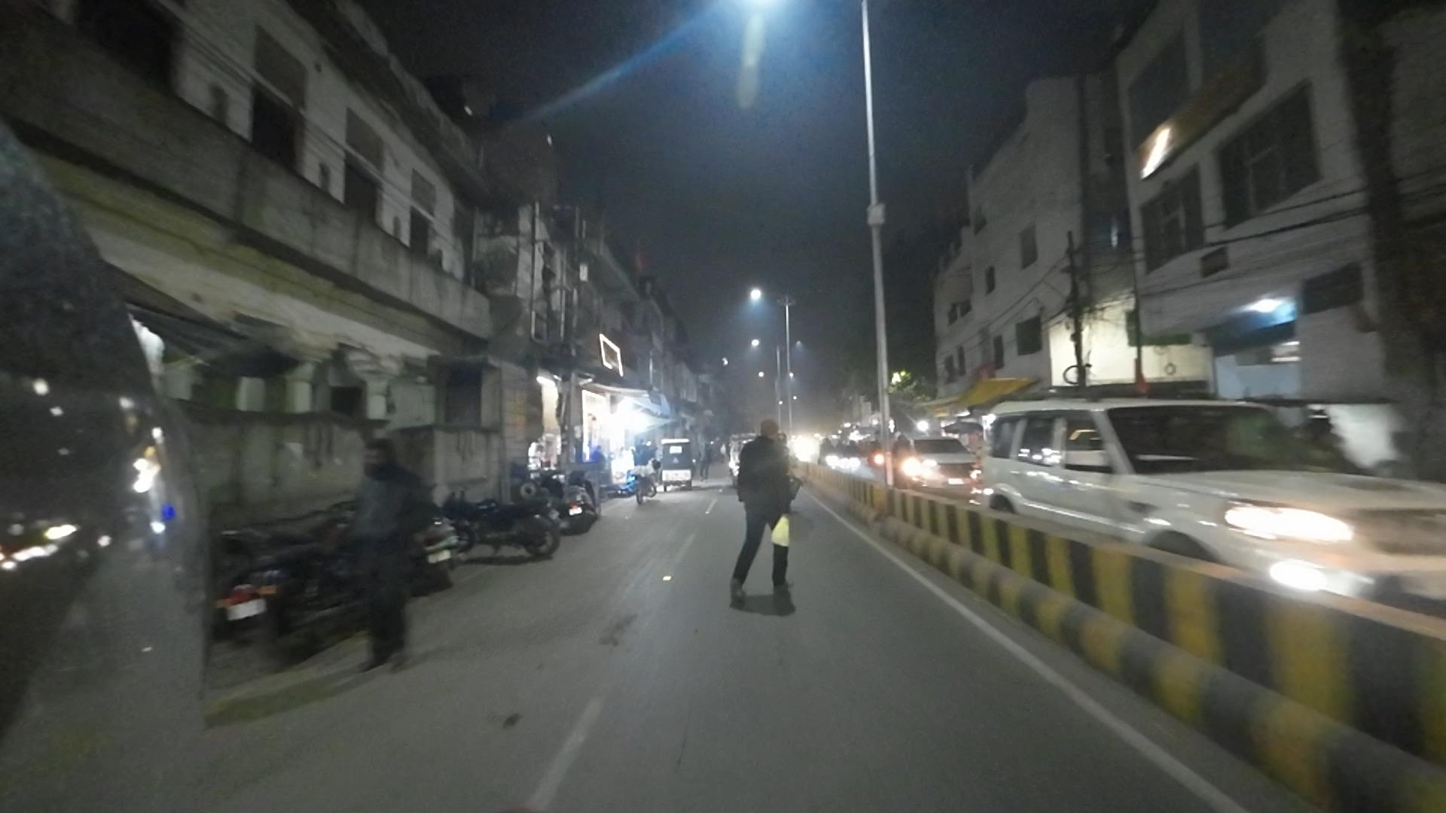streetlight: (795, 286, 824, 301)
